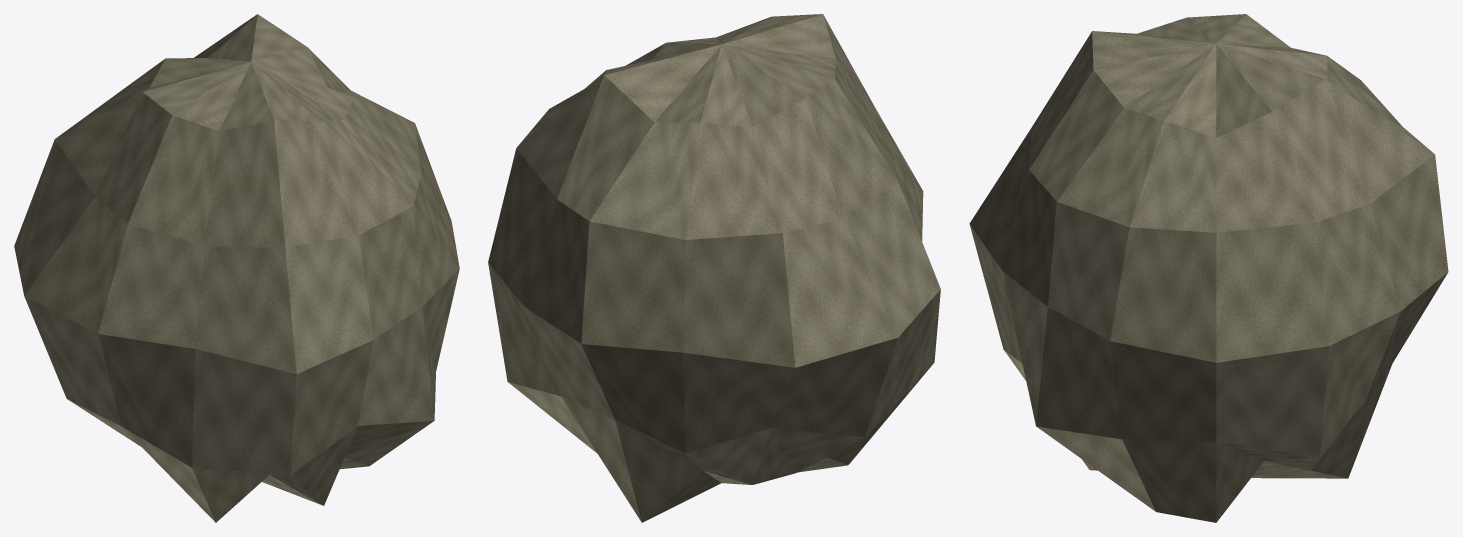
Rendered from boulder_sandstone_02.fbx.
The picture shows the model from 3 angles, left to right: view 1: azimuth 30°, elevation 25°; view 2: azimuth 150°, elevation 25°; view 3: azimuth 270°, elevation 25°; orthographic projection. The views are drawn at different scales.
Parts seen in each view (by area): view 1: boulder_sandstone_02_LOD0; view 2: boulder_sandstone_02_LOD0; view 3: boulder_sandstone_02_LOD0.
Boxes of the visible parts, left/top/right/bottom form: boulder_sandstone_02_LOD0: left=14, top=14, right=459, bottom=522; boulder_sandstone_02_LOD0: left=488, top=14, right=940, bottom=522; boulder_sandstone_02_LOD0: left=969, top=14, right=1448, bottom=522.
Size of what is drawn, in the model's own units: 1 by 1 by 1.
1 material, 1 textured.
